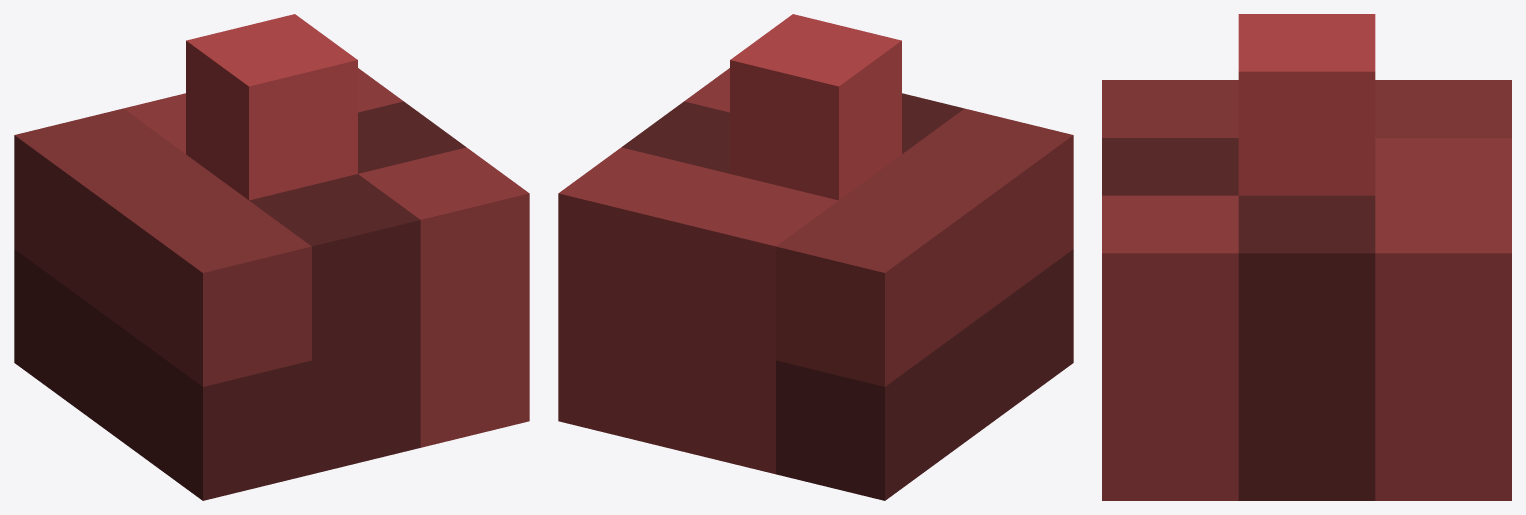
Rendered from CMU3DWornCMUIDCardProvostAdvisorId.glb.
3 views of the same model, side by side, from view 1: azimuth 30°, elevation 25°; view 2: azimuth 150°, elevation 25°; view 3: azimuth 270°, elevation 25° (orthographic). The views are drawn at different scales.
Parts seen in each view (by area): view 1: source volume 2, source volume 1, source volume 7, source volume 5, source volume 4, source volume 3, source volume 8, source volume 6; view 2: source volume 6, source volume 2, source volume 5, source volume 3, source volume 1, source volume 8, source volume 4, source volume 7; view 3: source volume 6, source volume 8, source volume 7, source volume 5, source volume 2, source volume 4.
Part boxes in pixels (left/top/right/bottom): source volume 2: left=14, top=108, right=311, bottom=386; source volume 1: left=77, top=295, right=420, bottom=500; source volume 7: left=358, top=147, right=529, bottom=447; source volume 5: left=186, top=14, right=357, bottom=200; source volume 4: left=249, top=174, right=420, bottom=360; source volume 3: left=14, top=249, right=77, bottom=408; source volume 8: left=358, top=101, right=466, bottom=173; source volume 6: left=123, top=68, right=403, bottom=153; source volume 6: left=558, top=147, right=838, bottom=474; source volume 2: left=776, top=108, right=1073, bottom=386; source volume 5: left=730, top=14, right=901, bottom=200; source volume 3: left=776, top=341, right=947, bottom=500; source volume 1: left=948, top=249, right=1073, bottom=454; source volume 8: left=621, top=101, right=729, bottom=173; source volume 4: left=902, top=93, right=964, bottom=153; source volume 7: left=684, top=68, right=729, bottom=112; source volume 6: left=1375, top=138, right=1511, bottom=500; source volume 8: left=1238, top=195, right=1375, bottom=500; source volume 7: left=1102, top=195, right=1238, bottom=500; source volume 5: left=1238, top=14, right=1375, bottom=195; source volume 2: left=1102, top=80, right=1511, bottom=137; source volume 4: left=1102, top=138, right=1238, bottom=195.
Bounding box in the file's own units: 0.15 × 0.15 × 0.15.
